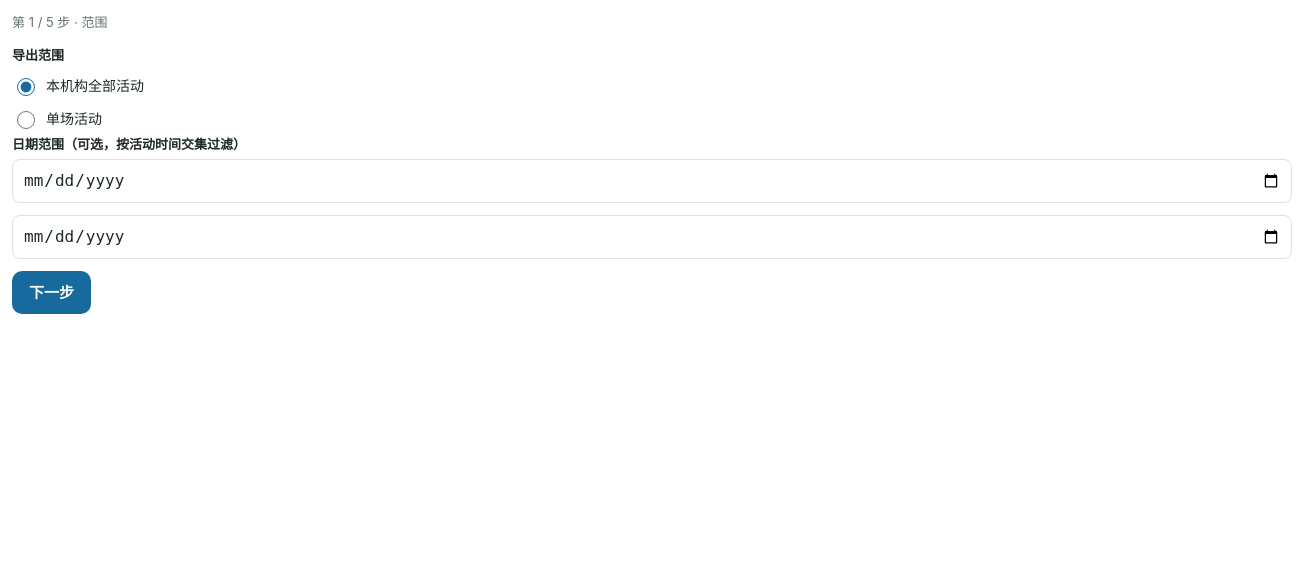
Test: ExportWizard 五步流转与校验 › 指定参与者含非法 ID 时第 3 步被拦截并列出坏值
The image size is (1304, 577).
Step 1. Click the button "下一步" → (52, 292), box 12,270 -> 91,314
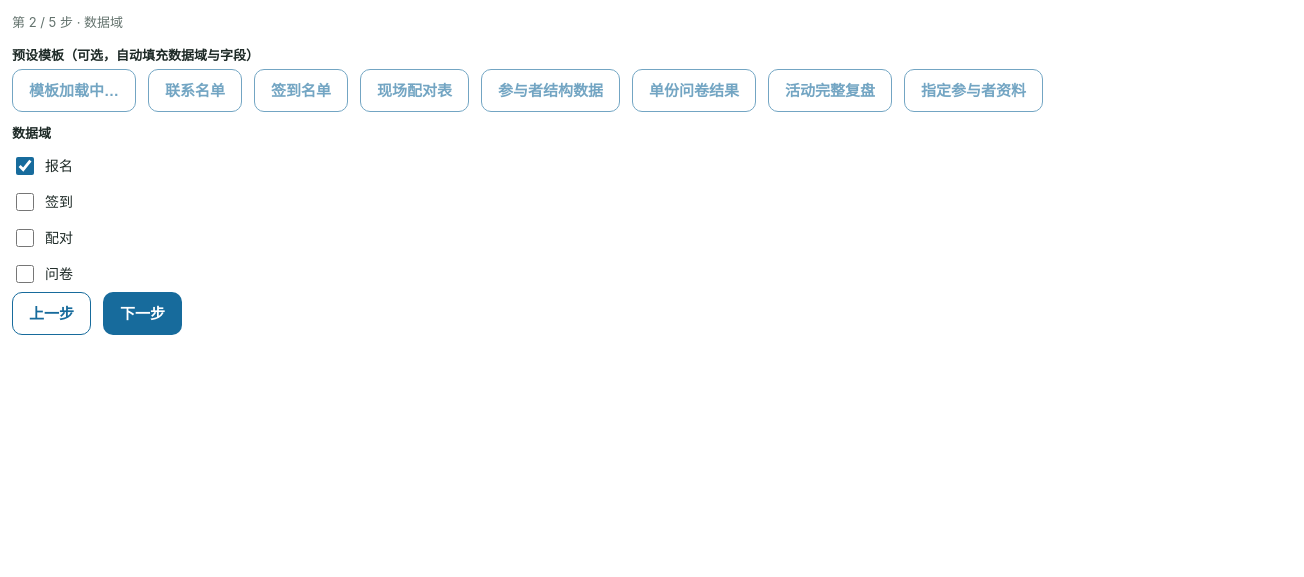
Expected: the text "预设模板（可选，自动填充数据域与字段）" is shown, 12,46 -> 259,62
Step 2. Click the button "下一步" → (142, 313), box 103,292 -> 182,334
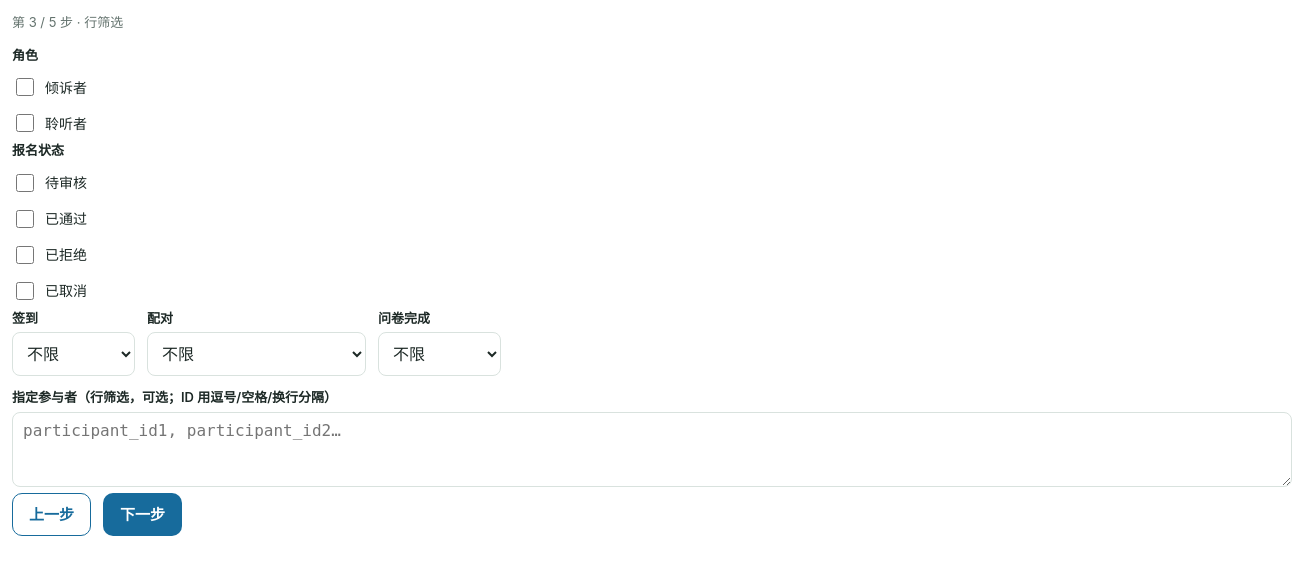
Step 3. Type "p1, bad id!" into the text box named "指定参与者 ID" → (652, 449), box 12,412 -> 1292,486
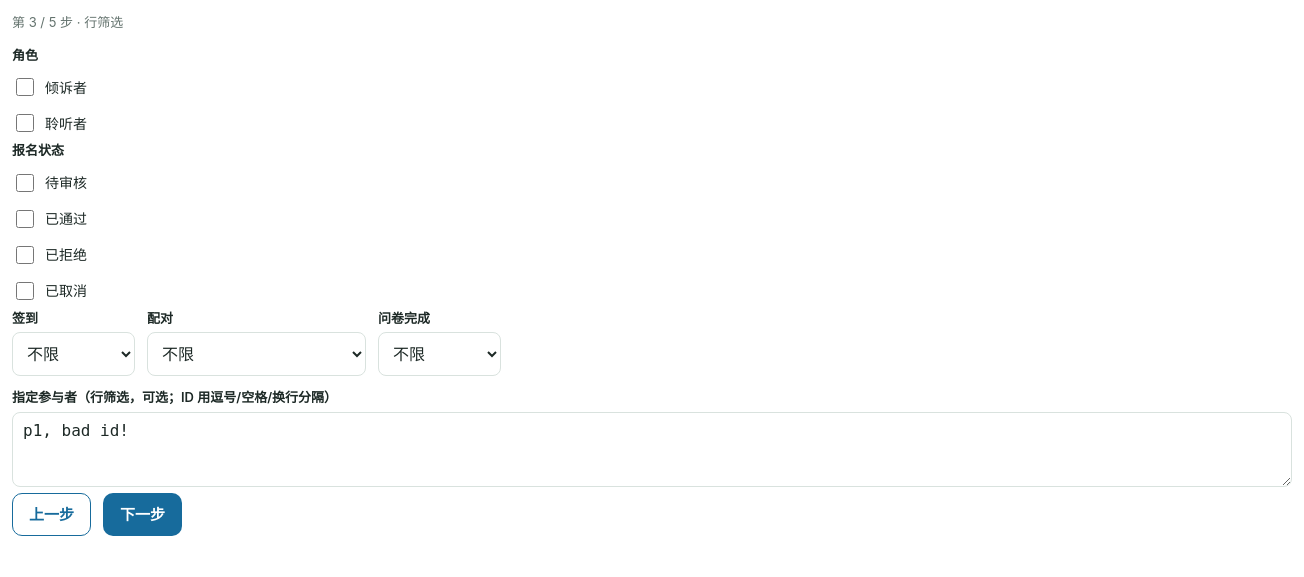
Step 4. Click the button "下一步" → (142, 514), box 103,493 -> 182,536
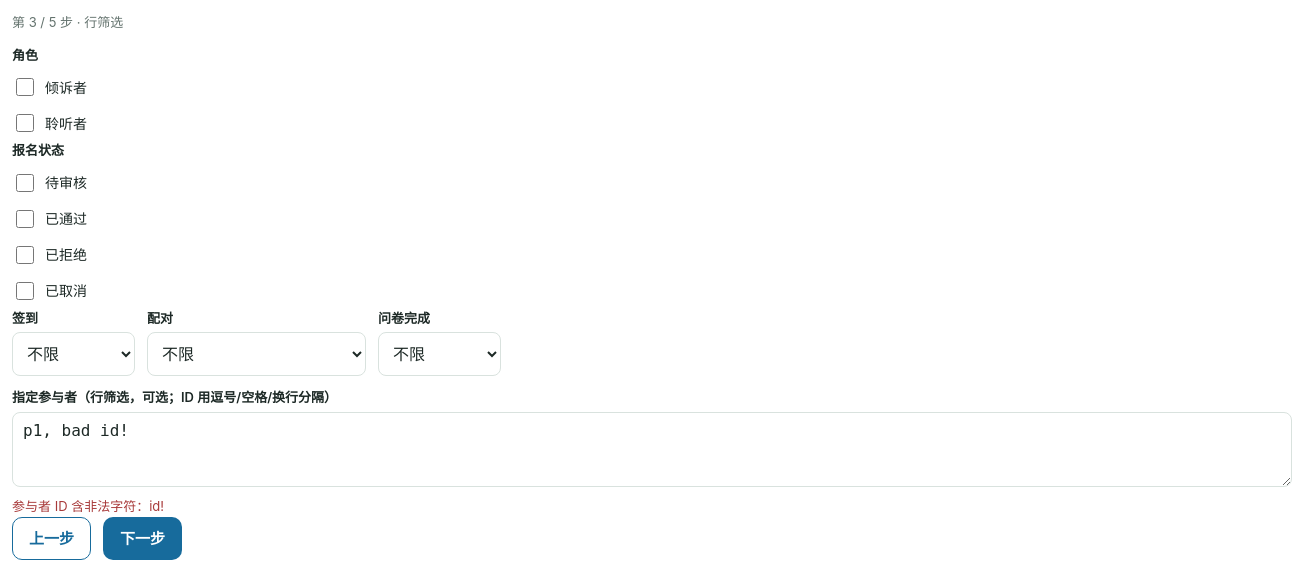
Expected: the text "参与者 ID 含非法字符：id!" is shown, 12,498 -> 164,514
